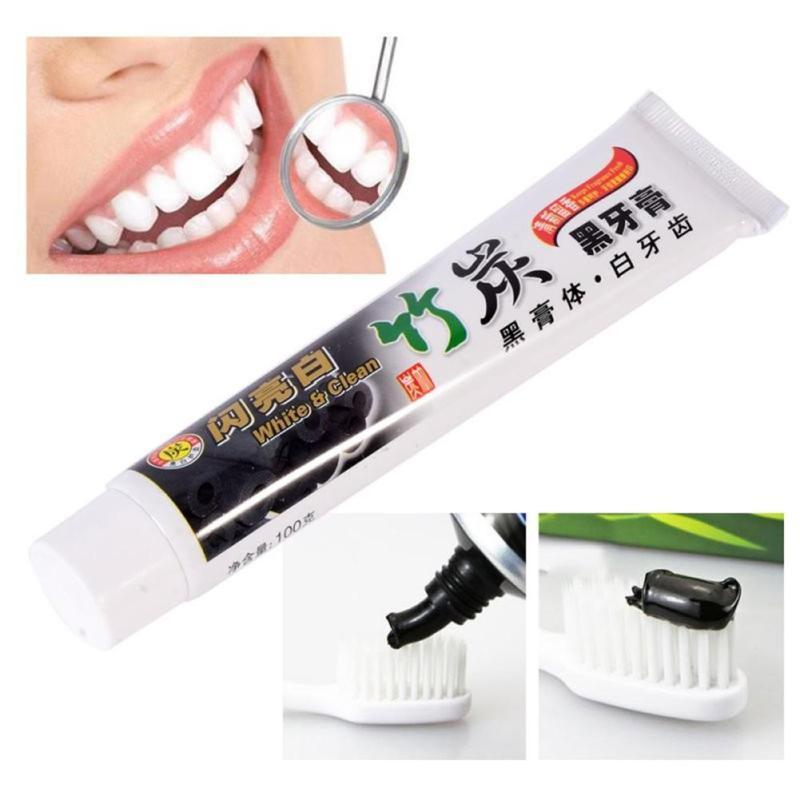toothpaste: (26, 74, 798, 644)
